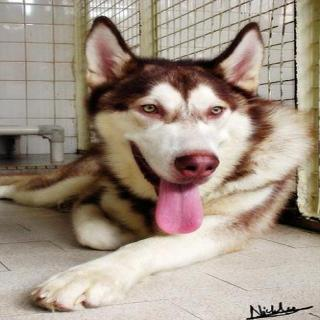dog: (75, 14, 277, 218)
nose: (168, 139, 220, 182)
